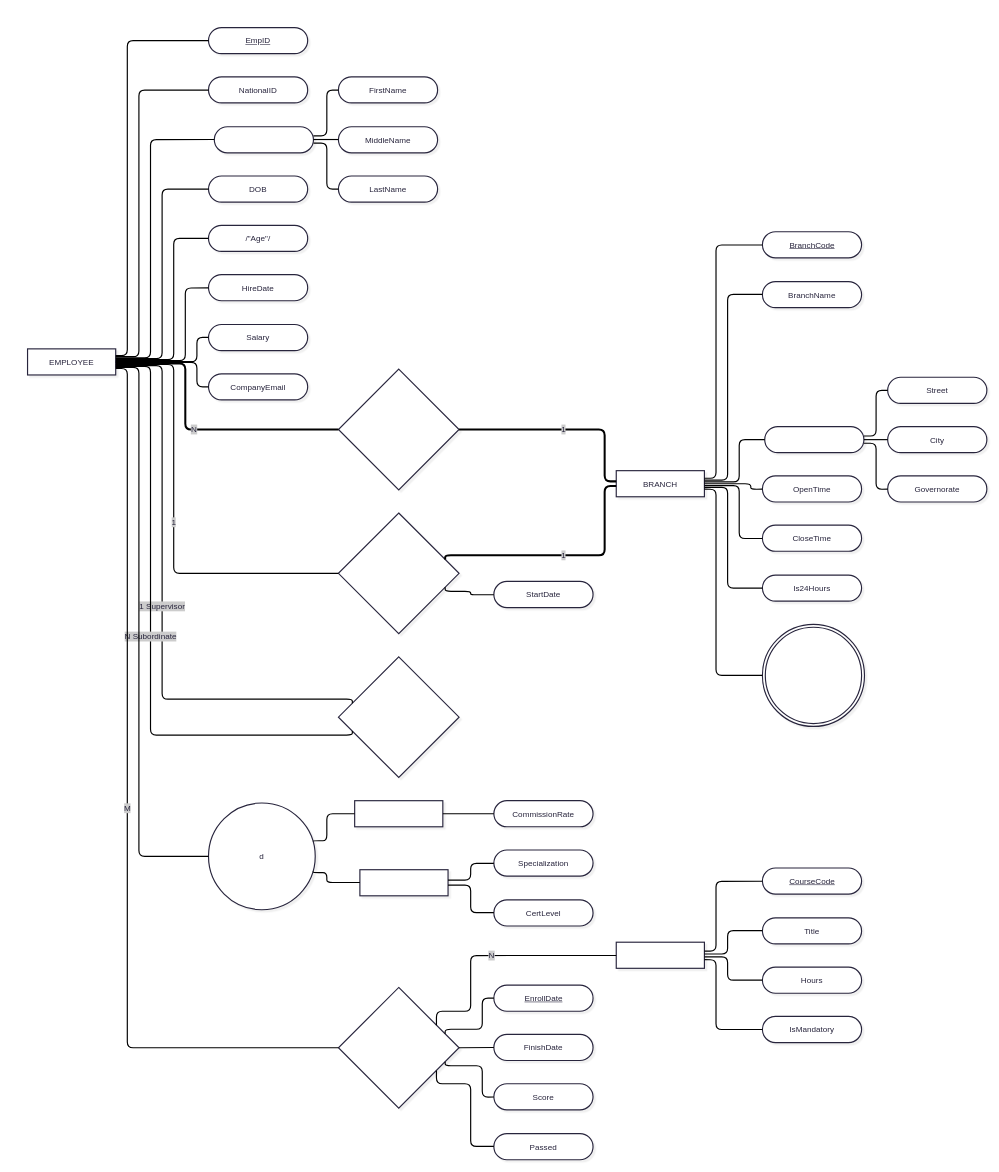
Some shapes in this 999 by 1172 pixel diagram are drawn without their labels. Each missing label, with the centre of its shape:
"Address" belongs at point 815,440.
"Assigned_To" belongs at point 400,430.
"COURSE" belongs at point 661,956.
"Enrolls_In" belongs at point 400,1049.
"FullName" belongs at point 264,140.
"Manages" belongs at point 400,574.
"MECHANIC" belongs at point 405,883.
"PhoneNumber" belongs at point 814,676.
"RENTAL_AGENT" belongs at point 399,814.
"Supervises" belongs at point 400,718.
